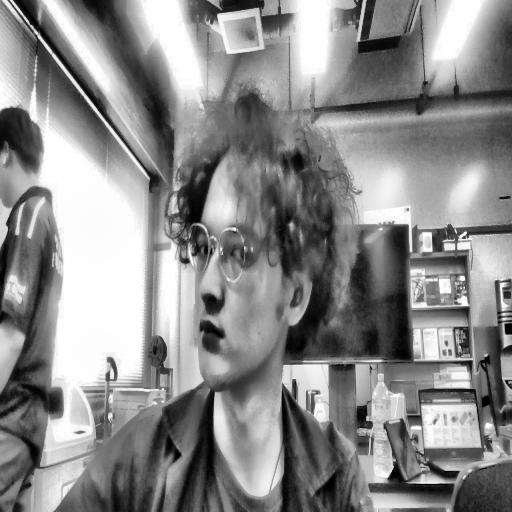Daifuku: (170, 108, 352, 396)
Not Daifuku: (0, 104, 41, 203)
